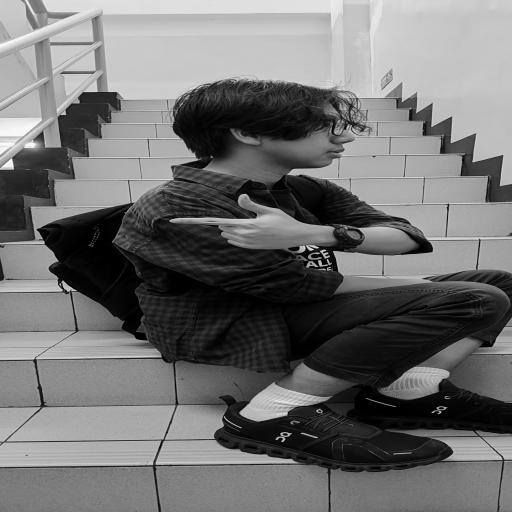next: (147, 186, 329, 264)
